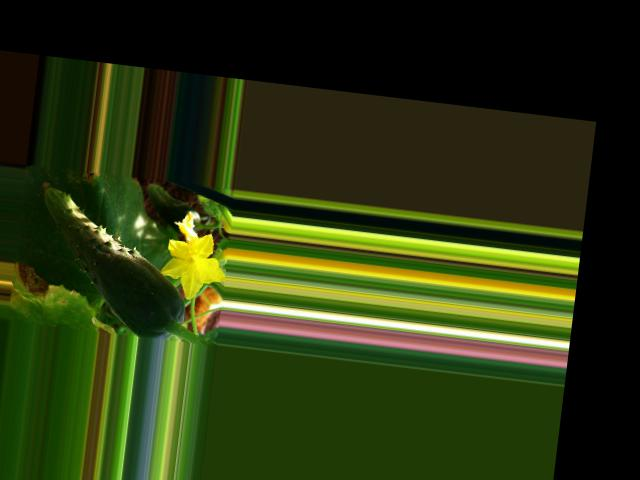cucumber: (25, 181, 198, 342)
